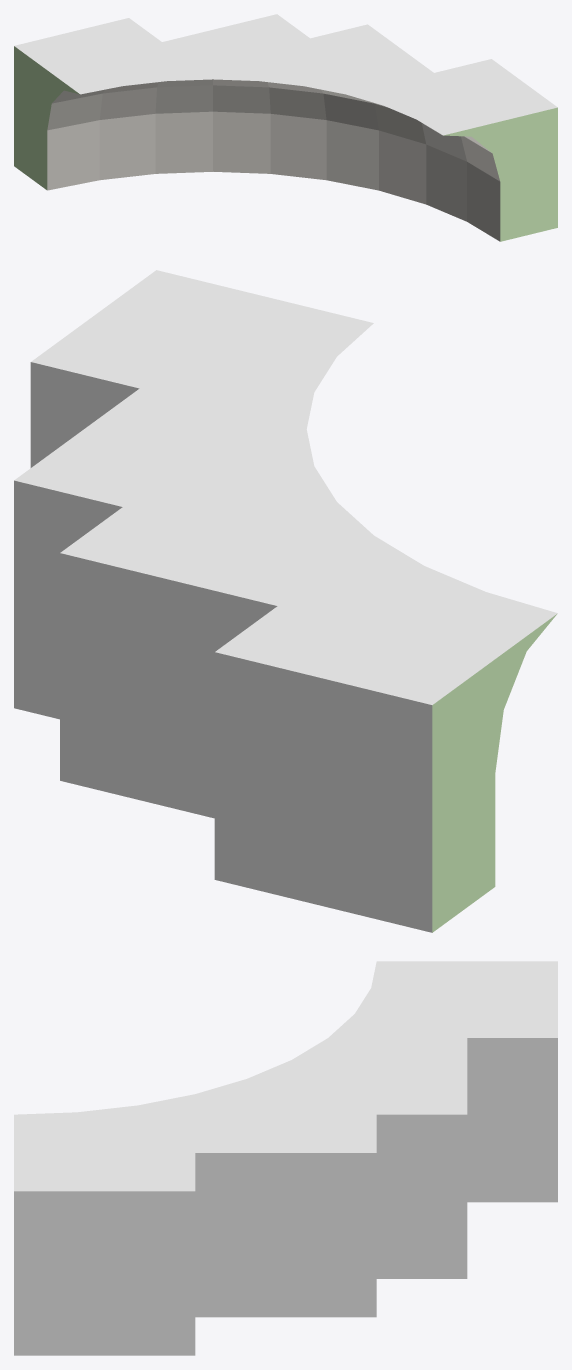
File: Wall_Curve_Inner_6x6_Top.fbx
3 renders of one model, top to bottom at view 1: azimuth 30°, elevation 25°; view 2: azimuth 150°, elevation 25°; view 3: azimuth 270°, elevation 25°, orthographic. The views are drawn at different scales.
Parts seen in each view (by area): view 1: Wall_Curve_Inner_6x6_Top; view 2: Wall_Curve_Inner_6x6_Top; view 3: Wall_Curve_Inner_6x6_Top.
Boxes of the visible parts, <box> form: Wall_Curve_Inner_6x6_Top: <box>14,14,557,241</box>; Wall_Curve_Inner_6x6_Top: <box>14,270,557,932</box>; Wall_Curve_Inner_6x6_Top: <box>14,961,557,1355</box>.
Size of the model in its own units: 600 by 200 by 600.
